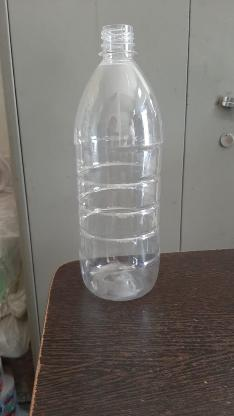Plastic Bottle: (72, 15, 168, 305)
